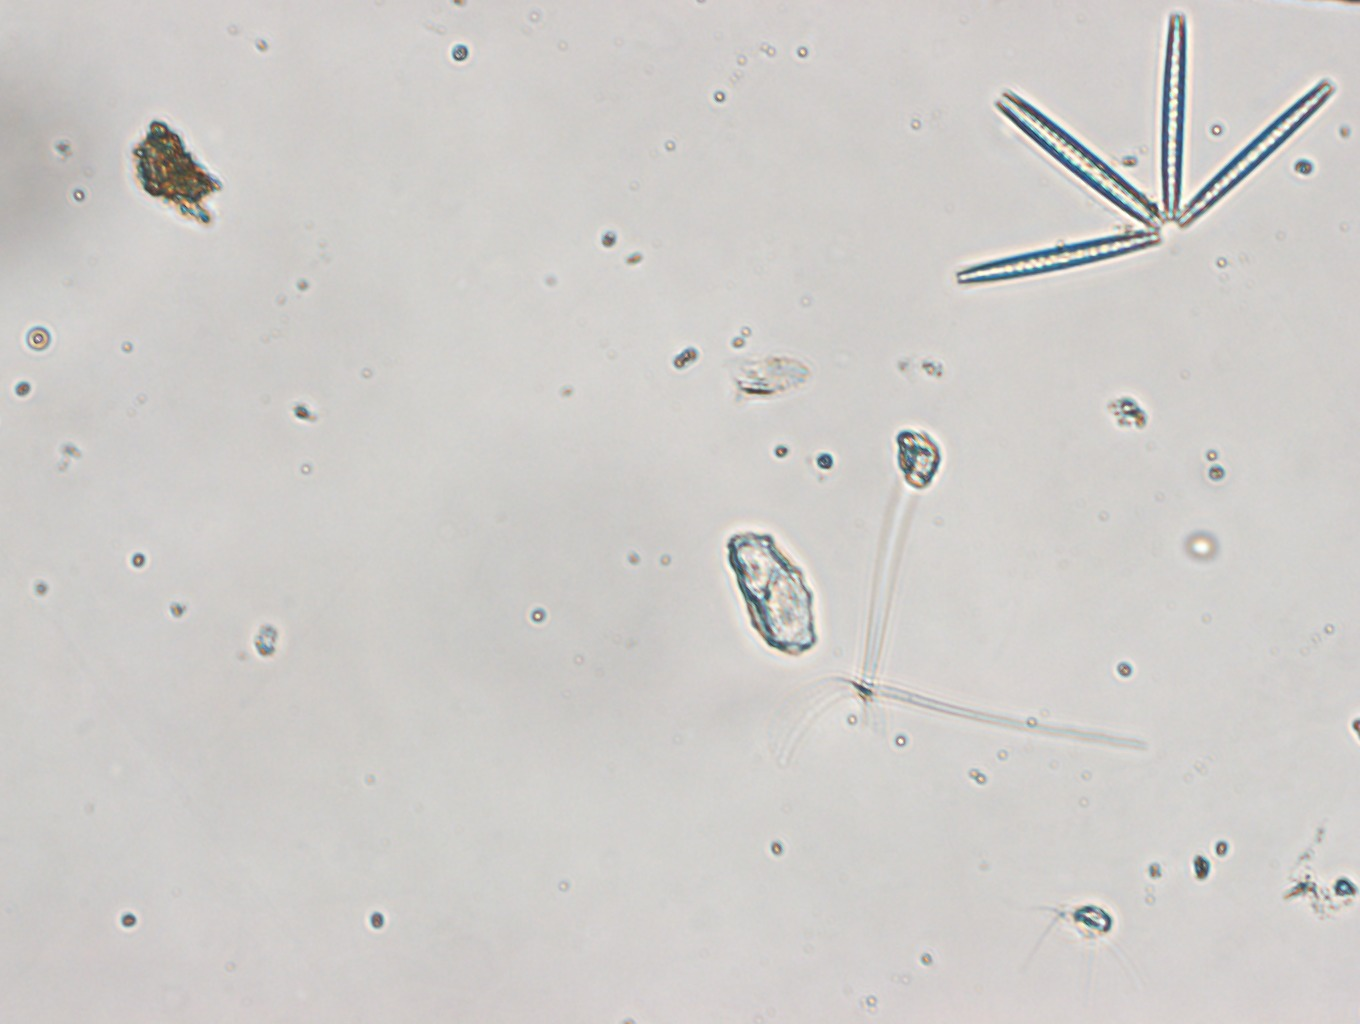thalassionema nitzschioides: (954, 11, 1338, 291)
